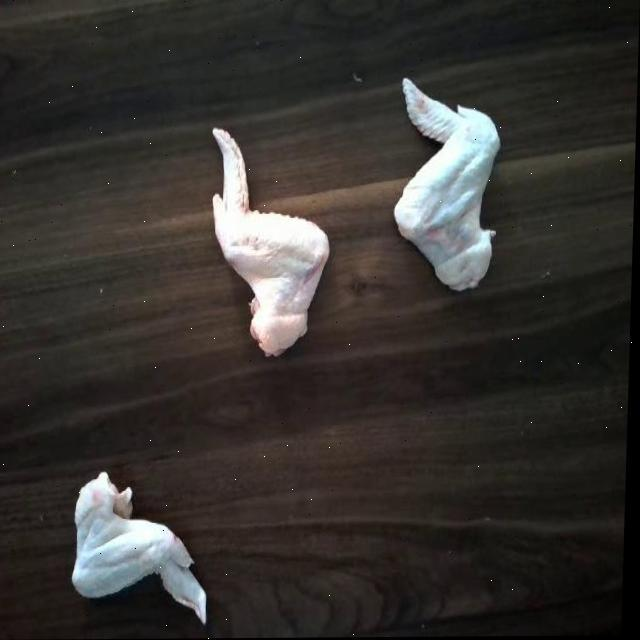wing: (196, 123, 336, 369), (392, 72, 504, 305), (68, 469, 216, 626)
